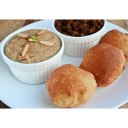poori: (48, 64, 96, 108), (81, 44, 126, 86), (101, 29, 128, 60)
